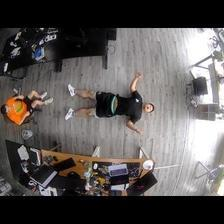fall: (61, 71, 155, 138)
normal: (1, 89, 54, 126)
